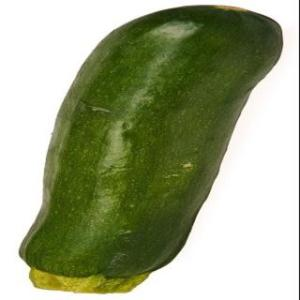zucchini: (16, 6, 284, 296)
